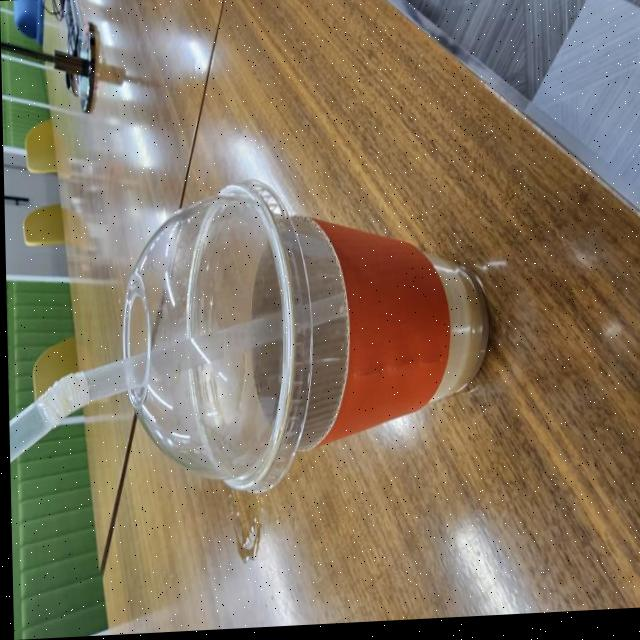cup: (111, 173, 496, 499)
